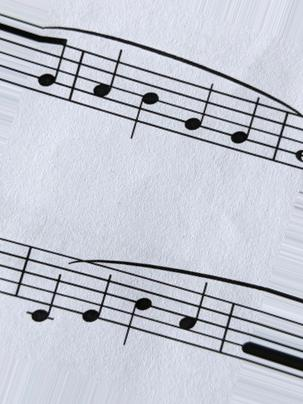A: (173, 279, 212, 359), (90, 46, 125, 117)
B: (119, 269, 157, 350), (126, 67, 162, 140)
E: (82, 261, 117, 327)
G: (178, 78, 216, 149), (228, 93, 263, 164)
LC: (26, 245, 67, 329)
